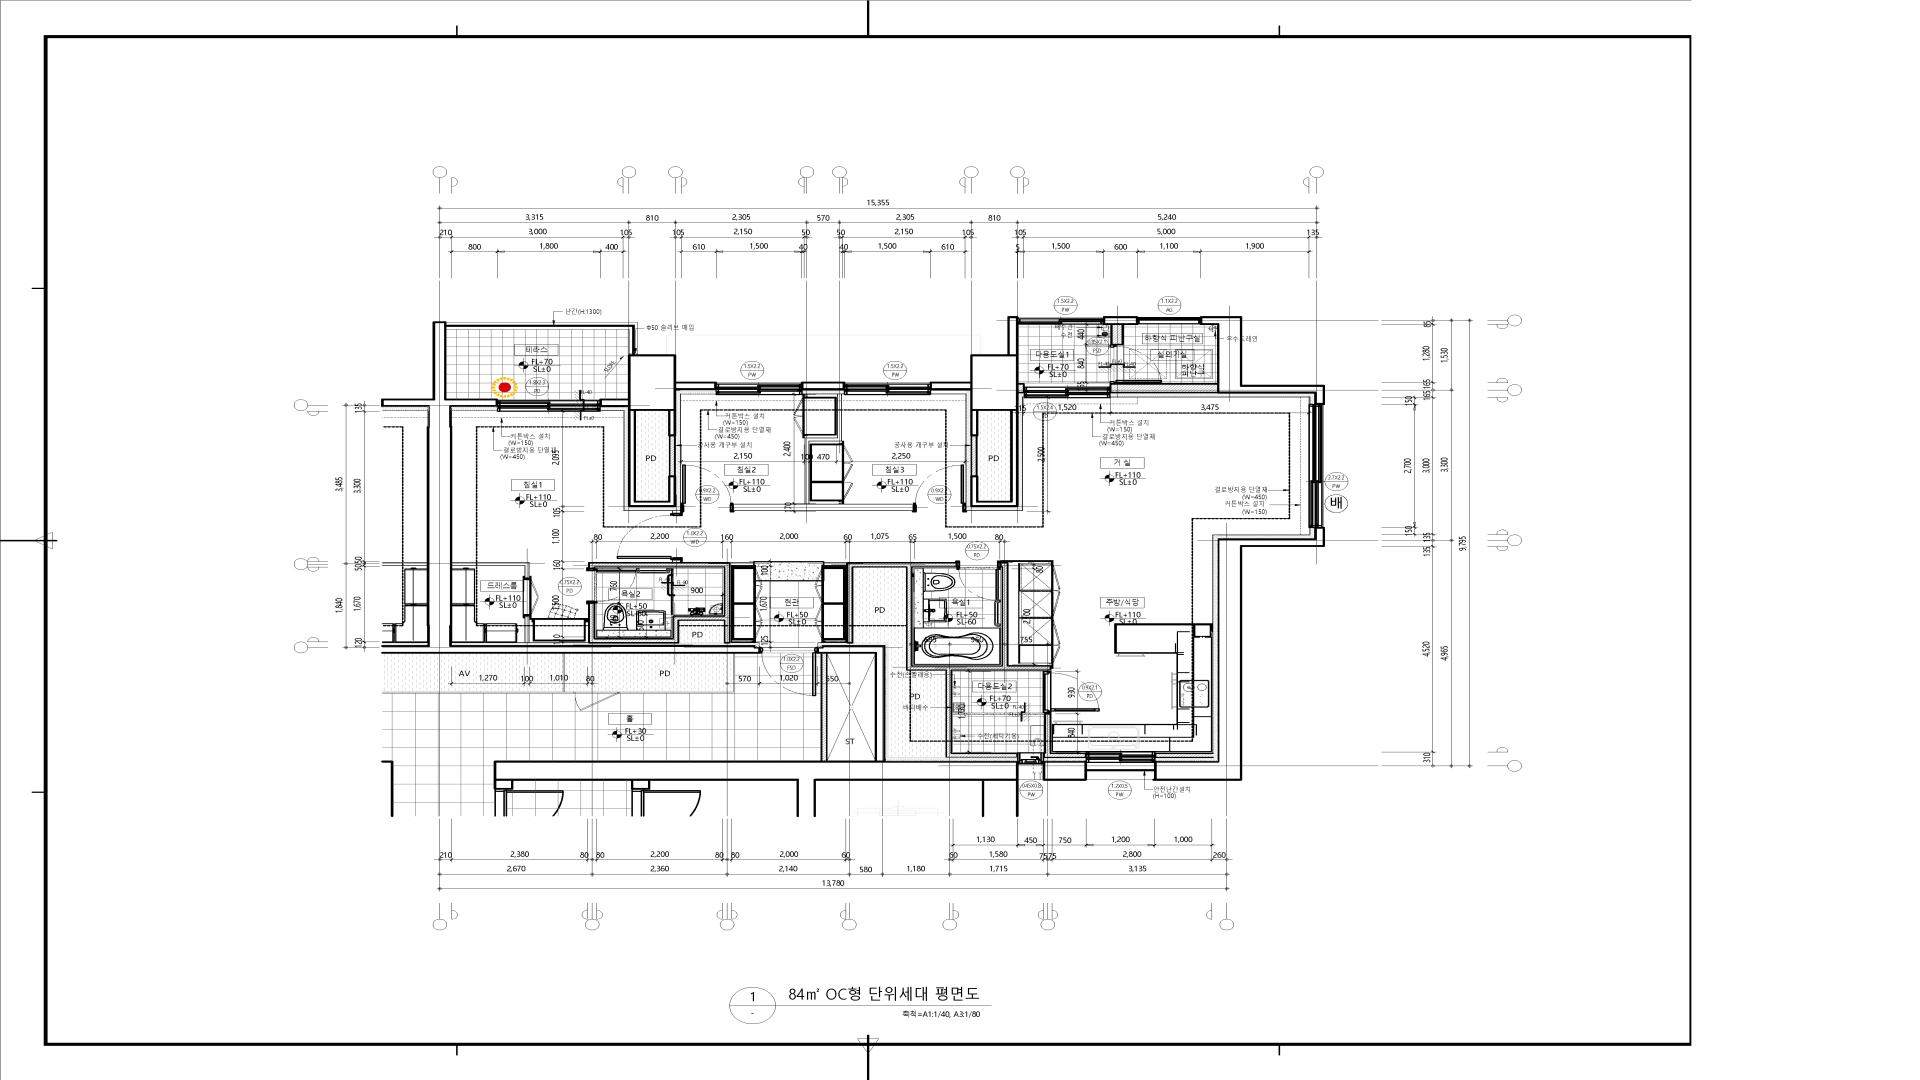background: (0, 0, 1919, 1080)
door: (761, 647, 816, 696), (914, 464, 967, 513), (680, 464, 733, 512), (1042, 673, 1100, 712), (1109, 345, 1163, 382), (956, 560, 1001, 601), (585, 568, 637, 604), (575, 691, 621, 712), (522, 576, 538, 620)
wall: (381, 320, 761, 654), (495, 645, 1018, 781), (1155, 527, 1325, 781), (847, 562, 1051, 758), (735, 394, 913, 510), (599, 355, 717, 506), (931, 316, 1018, 508), (588, 562, 732, 644), (1200, 316, 1325, 405), (1044, 712, 1087, 758), (452, 562, 529, 578), (1110, 382, 1216, 393), (1042, 761, 1087, 781), (802, 382, 845, 390), (1102, 316, 1138, 326), (1155, 753, 1215, 758), (669, 436, 675, 476), (1110, 326, 1124, 345), (971, 436, 977, 475), (525, 616, 530, 642), (823, 562, 848, 566), (732, 562, 753, 566), (1018, 382, 1025, 393)
window: (1308, 405, 1323, 527), (497, 400, 600, 411), (845, 382, 931, 396), (1025, 386, 1110, 398), (717, 382, 802, 394), (1018, 316, 1102, 326), (1087, 752, 1154, 762), (1139, 316, 1200, 324), (1019, 752, 1043, 765)
